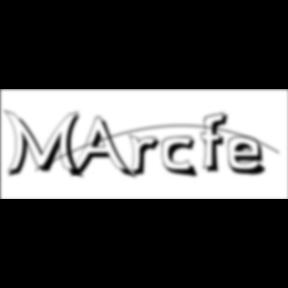A: (70, 116, 138, 182)
M: (3, 108, 87, 181)
c: (162, 136, 202, 180)
e: (228, 135, 274, 178)
f: (202, 111, 234, 175)
r: (129, 134, 167, 180)
